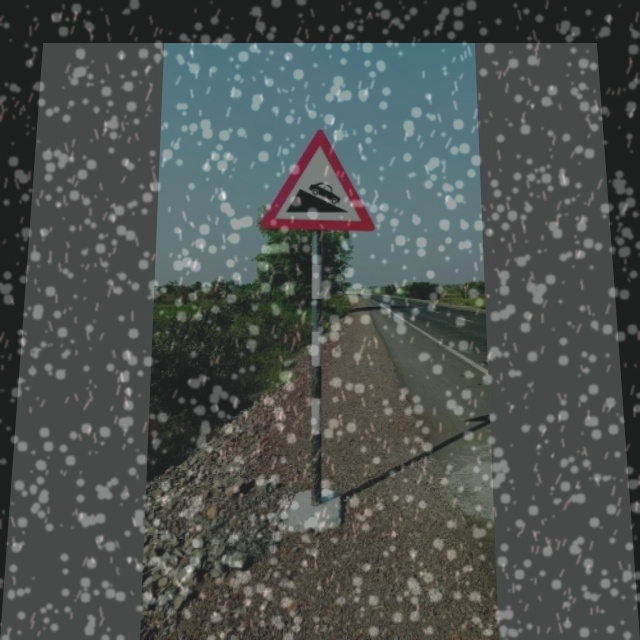Steep_Descent: (262, 129, 369, 230)
